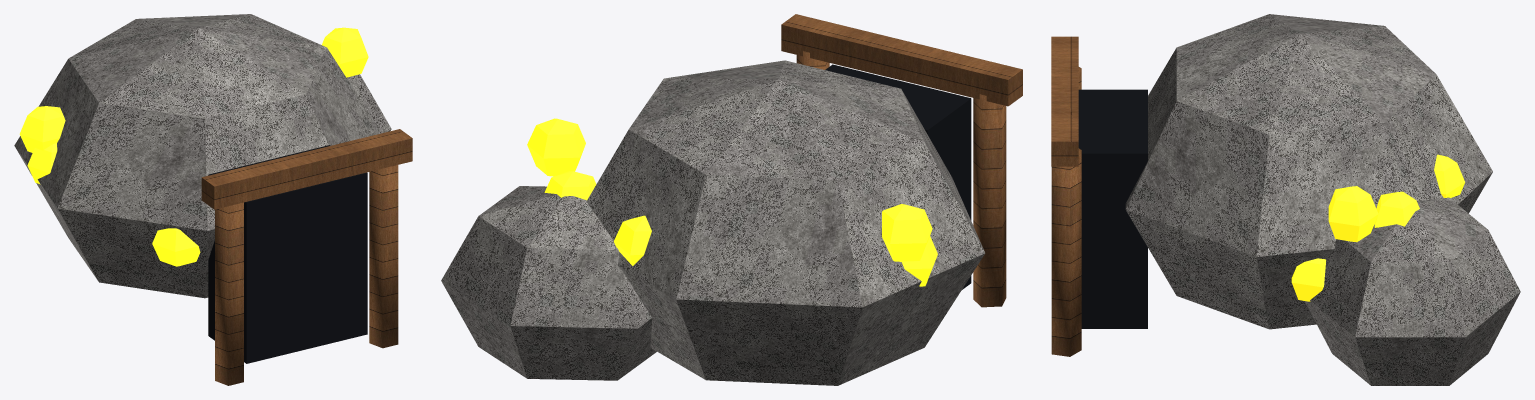
Rendered from goldmine.glb.
3 renders of one model, left to right at view 1: azimuth 30°, elevation 25°; view 2: azimuth 150°, elevation 25°; view 3: azimuth 270°, elevation 25°, orthographic. The views are drawn at different scales.
Parts seen in each view (by area): view 1: goldmine; view 2: goldmine; view 3: goldmine.
Boxes of the visible parts, x1,y1,x2,y2 form: goldmine: [14, 14, 412, 385]; goldmine: [441, 14, 1022, 385]; goldmine: [1051, 14, 1520, 385].
Bounding box in the file's own units: 1.72 × 1.1 × 1.7.
Materials: 4 (2 with a texture image).
